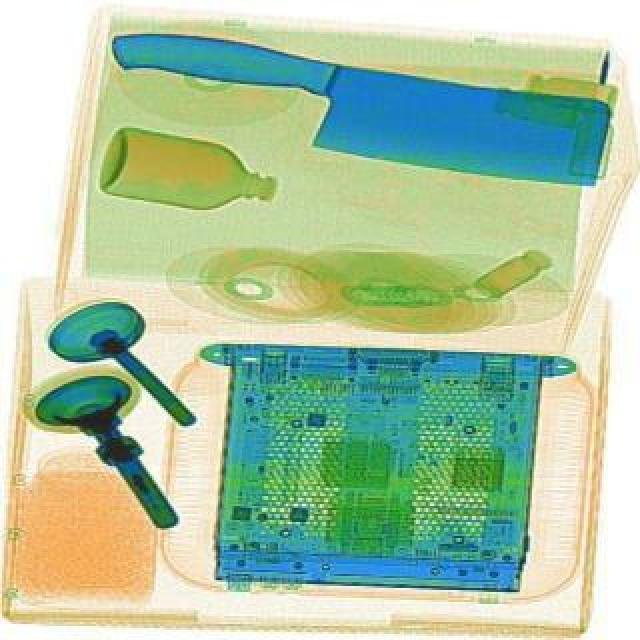knife: (98, 14, 612, 194)
